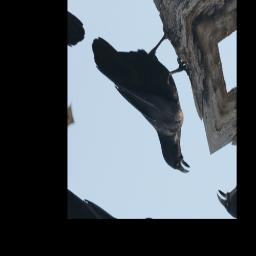Crow: (78, 0, 219, 183)
